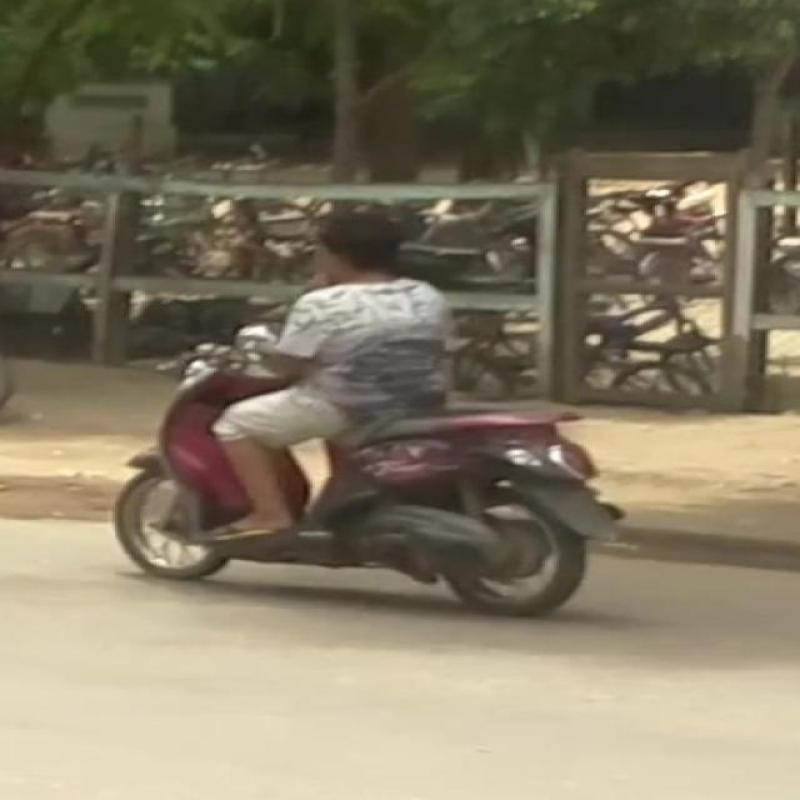nohelmet: (290, 200, 440, 292)
